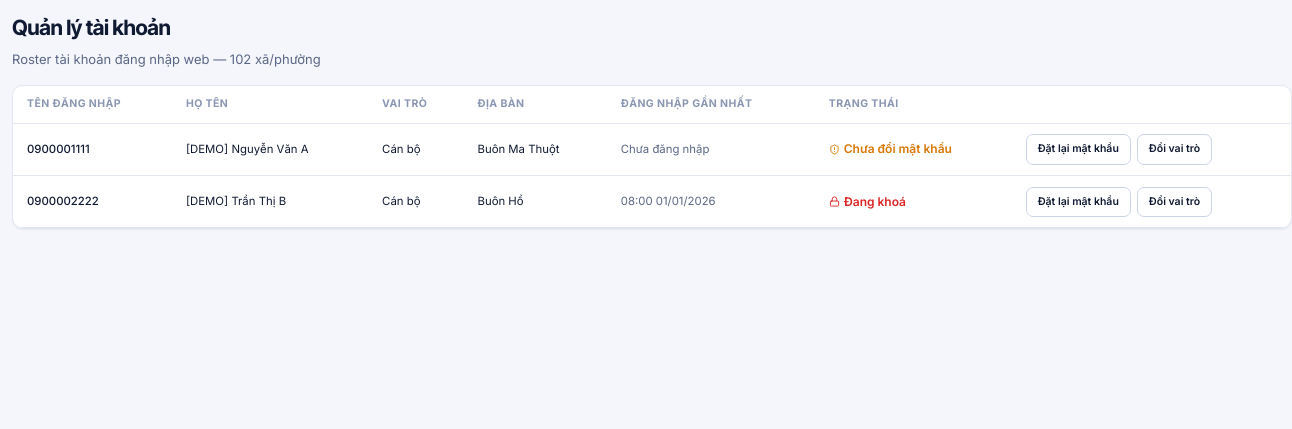
Test: AdminAccountsPage › resetting a password shows the one-time temp password exactly once
Check: the text "0900001111" is shown, box [13,124,172,176]
Click the button "Đặt lại mật khẩu" in the row of "0900001111". click: (1078, 150)
box: [1026,134,1131,165]
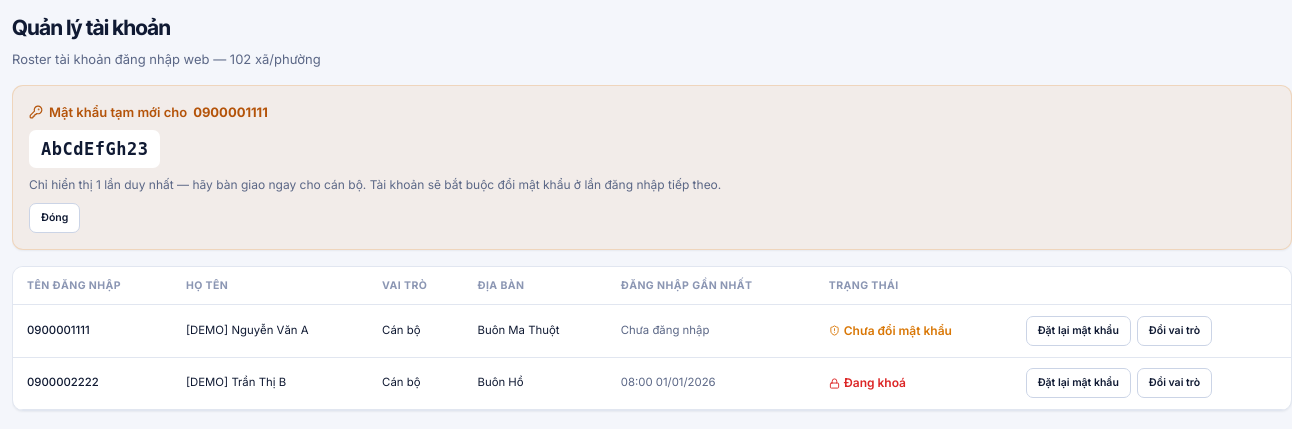
Check: the text "AbCdEfGh23" is shown, box [29,130,160,168]
Click the button "Đóng". click: (55, 218)
box: [29,203,80,233]
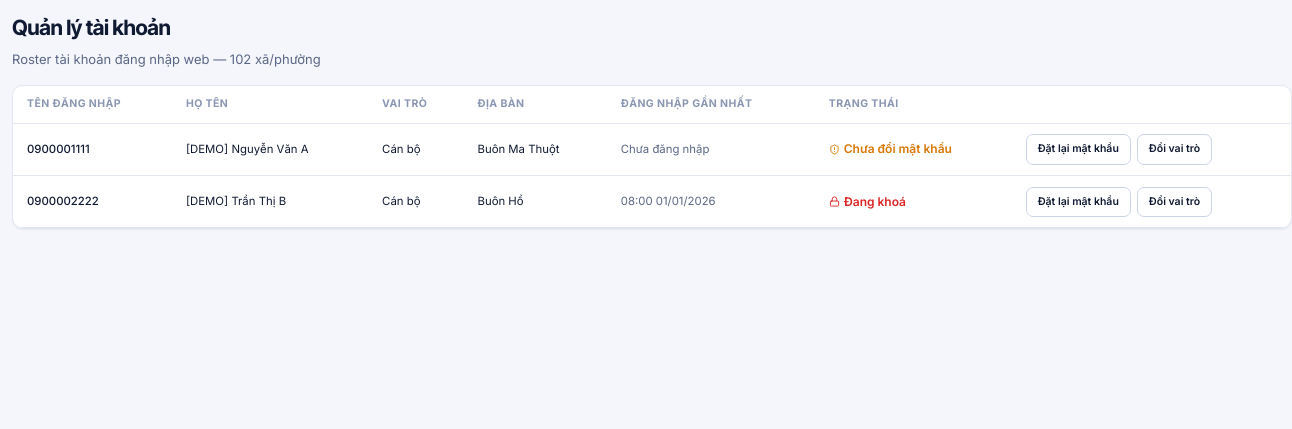
Check: the text "AbCdEfGh23" is gone
